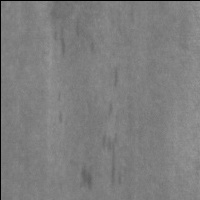inclusion: (98, 129, 127, 187), (50, 13, 86, 58), (76, 161, 98, 193), (107, 60, 124, 92)
